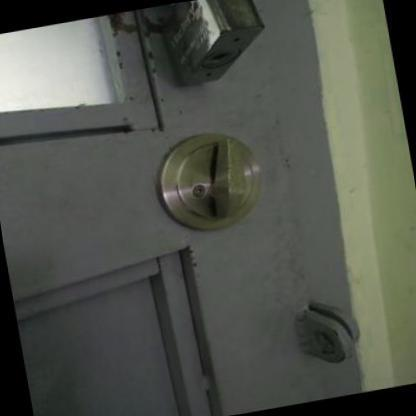unlock: (141, 101, 368, 269)
